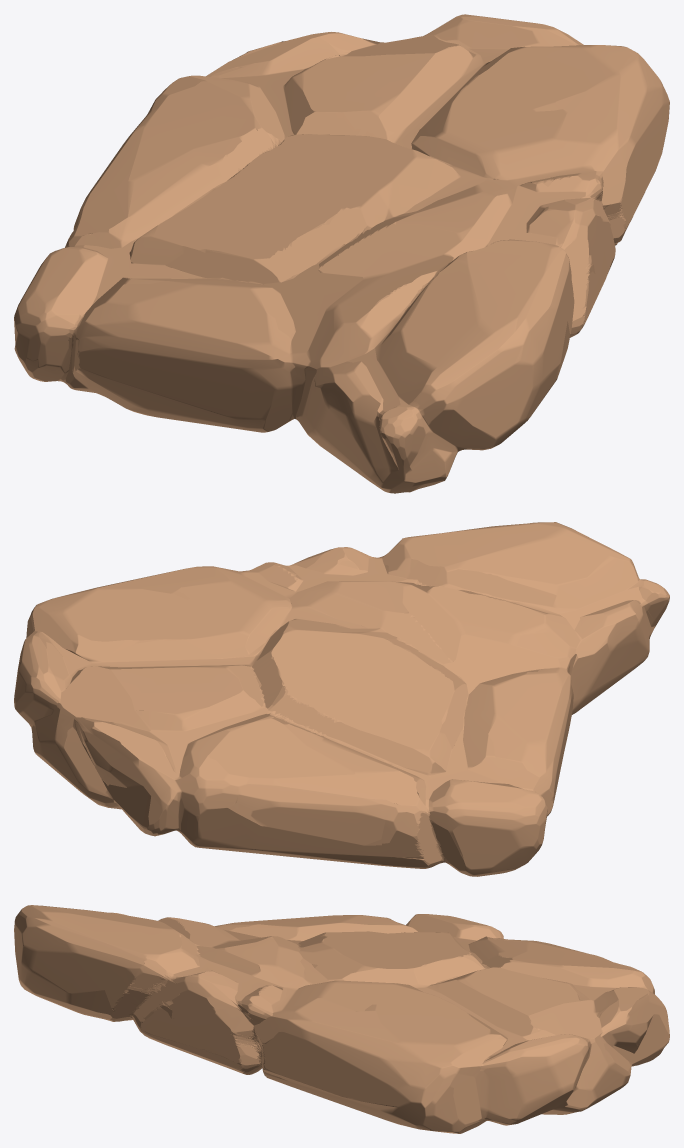
The picture shows the model from 3 angles, top to bottom: view 1: azimuth 30°, elevation 25°; view 2: azimuth 150°, elevation 25°; view 3: azimuth 270°, elevation 25°; orthographic projection. The views are drawn at different scales.
Visible parts, largest first — view 1: Mesh_55_LOD0; view 2: Mesh_55_LOD0; view 3: Mesh_55_LOD0.
Boxes of the visible parts, <box> form: Mesh_55_LOD0: <box>14,14,669,493</box>; Mesh_55_LOD0: <box>14,522,669,876</box>; Mesh_55_LOD0: <box>14,905,669,1133</box>.
Size of what is drawn, in the model's own units: 2809 by 850 by 3186.
